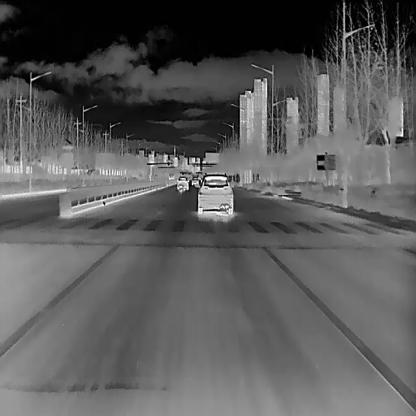car: (197, 172, 233, 214), (175, 175, 188, 190), (190, 176, 198, 184)
